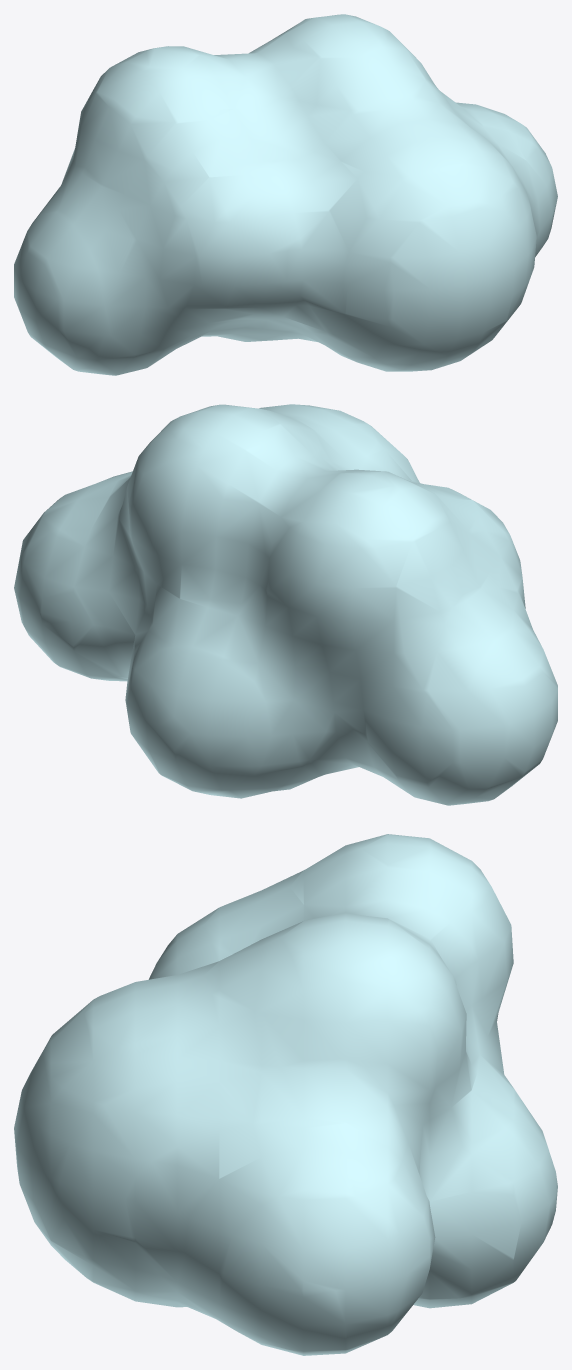
The model's file is NUBE.glb.
3 renders of one model, top to bottom at view 1: azimuth 30°, elevation 25°; view 2: azimuth 150°, elevation 25°; view 3: azimuth 270°, elevation 25°, orthographic. The views are drawn at different scales.
Parts seen in each view (by area): view 1: NUBE; view 2: NUBE; view 3: NUBE.
Part boxes in pixels (x1,y1,x2,y2): NUBE: [14, 14, 557, 375]; NUBE: [14, 404, 557, 805]; NUBE: [14, 834, 557, 1355].
Size of the model in its own units: 5.41 by 3.26 by 4.05.
